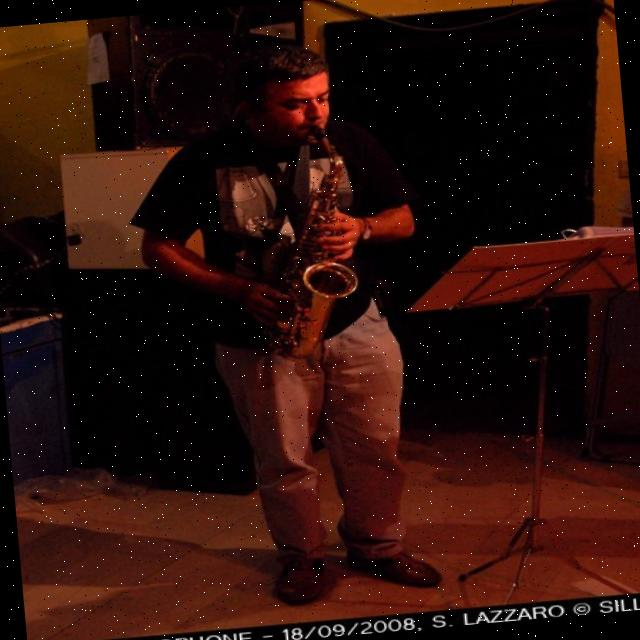saxophone: (244, 116, 399, 367)
